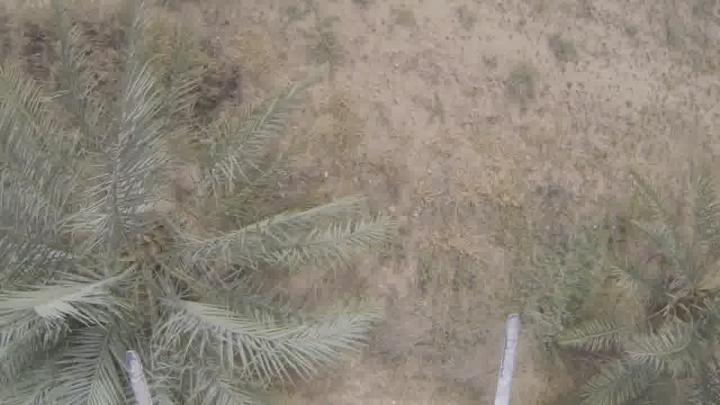Date-Palm-Crown: (0, 122, 276, 404), (624, 222, 720, 390)
